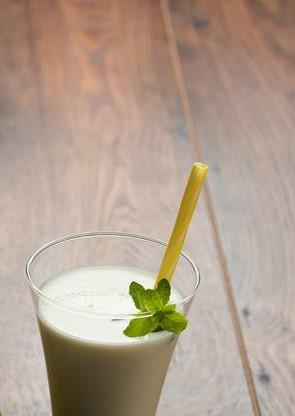Lassi: (36, 266, 186, 416)
